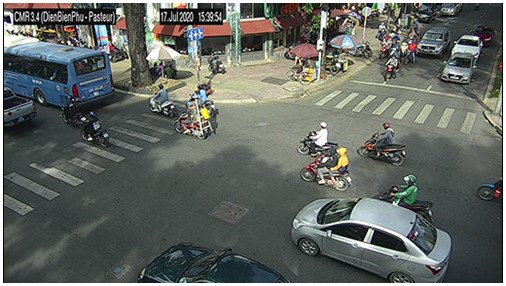xe_ban_tai: (4, 86, 38, 134)
xe_buyt: (4, 35, 114, 108)
xe_hoi: (290, 197, 452, 283), (136, 241, 291, 283), (441, 52, 475, 84), (418, 28, 451, 56), (452, 35, 483, 60), (472, 25, 495, 45)
xe_may: (373, 174, 434, 223), (300, 147, 352, 192), (356, 122, 406, 166), (175, 97, 210, 140), (297, 122, 339, 157), (79, 111, 110, 147), (188, 84, 217, 117), (149, 83, 176, 118), (60, 95, 83, 124), (383, 54, 400, 84), (405, 39, 417, 66), (379, 35, 390, 61)
